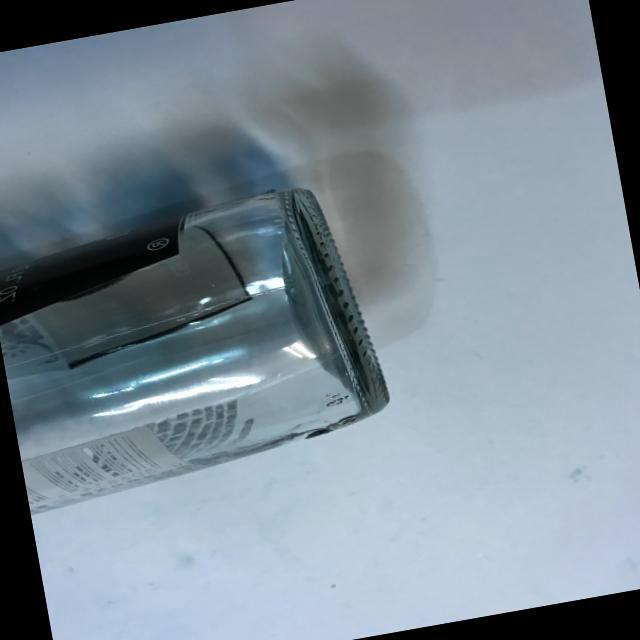glass: (0, 167, 409, 523)
